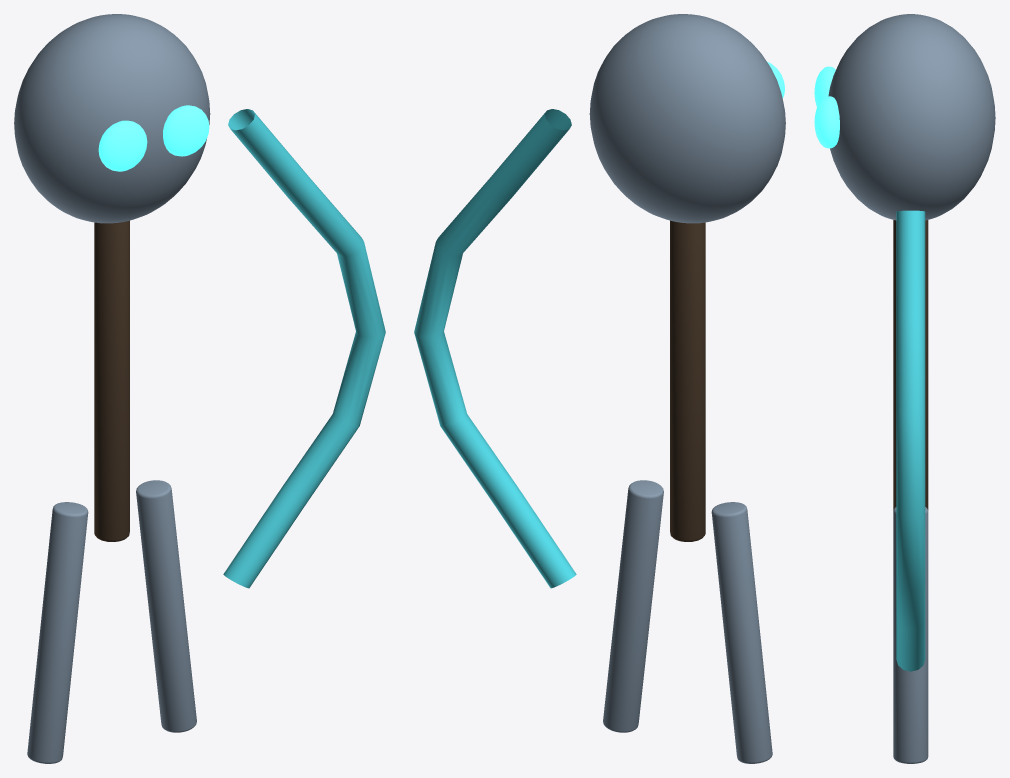
The model's file is undead_v8.glb.
3 views of the same model, side by side, from view 1: azimuth 30°, elevation 25°; view 2: azimuth 150°, elevation 25°; view 3: azimuth 270°, elevation 25° (orthographic). The views are drawn at different scales.
Visible parts, largest first — view 1: BONE_ARCHER_SKULL_PRIMARY, BONE_ARCHER_BOW_ACCENT, BONE_ARCHER_SPINE_SECONDARY, BONE_ARCHER_LEG_PRIMARY, BONE_ARCHER_LEG_PRIMARY.001, EYE_EMISSIVE, EYE_EMISSIVE.001; view 2: BONE_ARCHER_SKULL_PRIMARY, BONE_ARCHER_BOW_ACCENT, BONE_ARCHER_SPINE_SECONDARY, BONE_ARCHER_LEG_PRIMARY, BONE_ARCHER_LEG_PRIMARY.001; view 3: BONE_ARCHER_SKULL_PRIMARY, BONE_ARCHER_BOW_ACCENT, BONE_ARCHER_LEG_PRIMARY.001, BONE_ARCHER_SPINE_SECONDARY, EYE_EMISSIVE.001, EYE_EMISSIVE.
Part boxes in pixels (x1,y1,x2,y2): BONE_ARCHER_SKULL_PRIMARY: [14, 14, 210, 223]; BONE_ARCHER_BOW_ACCENT: [223, 109, 385, 588]; BONE_ARCHER_SPINE_SECONDARY: [94, 220, 129, 541]; BONE_ARCHER_LEG_PRIMARY: [27, 502, 88, 763]; BONE_ARCHER_LEG_PRIMARY.001: [136, 480, 196, 732]; EYE_EMISSIVE: [98, 120, 147, 171]; EYE_EMISSIVE.001: [163, 105, 209, 156]; BONE_ARCHER_SKULL_PRIMARY: [589, 14, 785, 223]; BONE_ARCHER_BOW_ACCENT: [414, 109, 576, 588]; BONE_ARCHER_SPINE_SECONDARY: [670, 220, 705, 541]; BONE_ARCHER_LEG_PRIMARY: [711, 502, 772, 763]; BONE_ARCHER_LEG_PRIMARY.001: [603, 480, 663, 732]; BONE_ARCHER_SKULL_PRIMARY: [828, 14, 995, 220]; BONE_ARCHER_BOW_ACCENT: [896, 210, 925, 671]; BONE_ARCHER_LEG_PRIMARY.001: [893, 507, 928, 763]; BONE_ARCHER_SPINE_SECONDARY: [893, 220, 928, 510]; EYE_EMISSIVE.001: [814, 96, 839, 148]; EYE_EMISSIVE: [814, 66, 835, 106].
Size of the model in its own units: 1.39 by 2.67 by 0.62.
